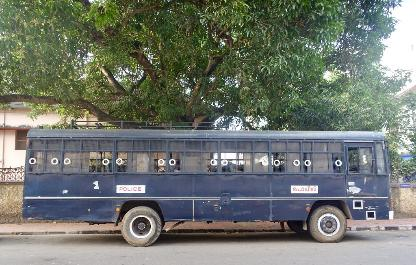priority: (20, 125, 398, 246)
